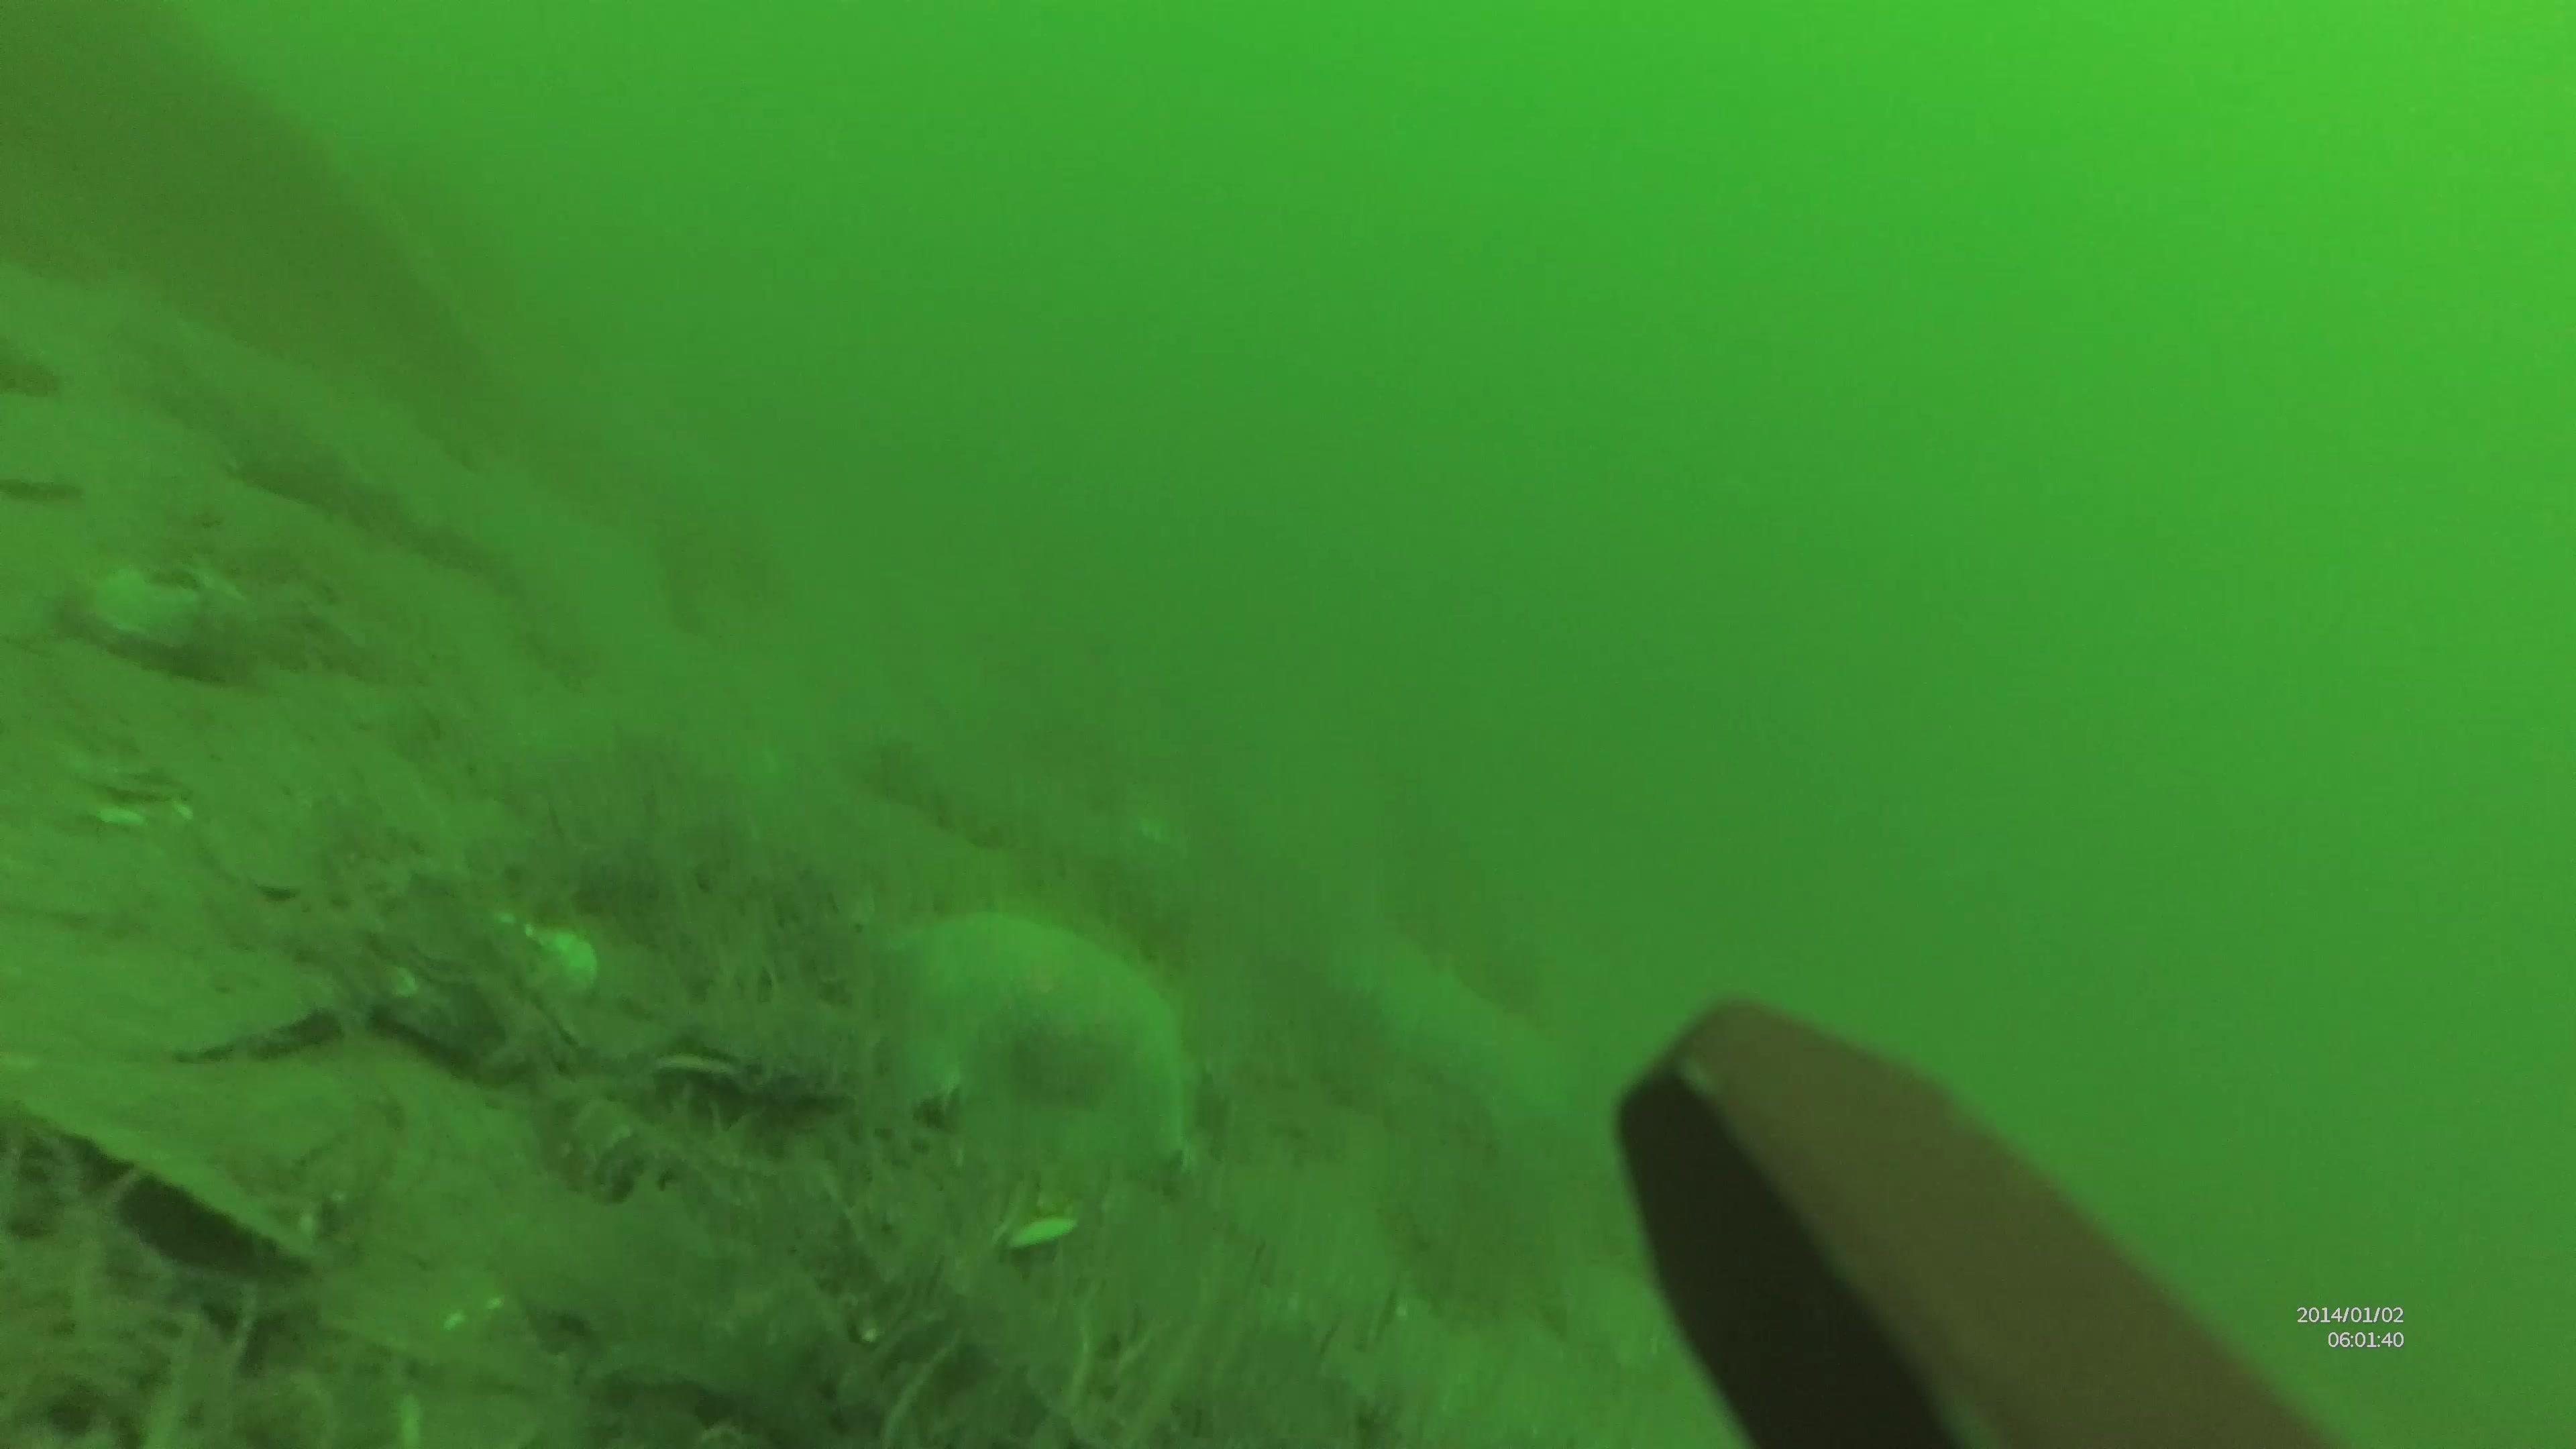starfish: (840, 902, 1205, 1194)
